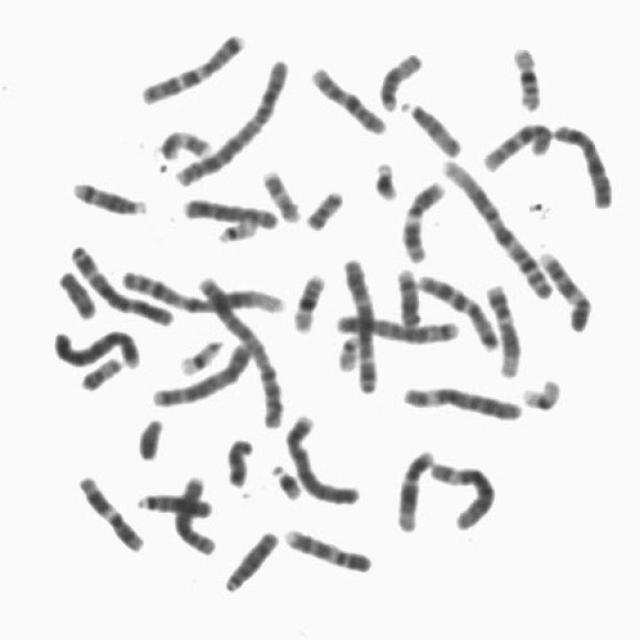A1: (436, 150, 556, 300), (116, 259, 289, 318)
A2: (168, 50, 293, 189), (192, 265, 289, 431)
A3: (63, 236, 179, 327), (336, 250, 382, 395)
B4: (280, 405, 365, 507), (46, 320, 145, 370)
B5: (147, 335, 257, 409), (329, 306, 464, 346)
C10: (305, 56, 392, 136), (477, 113, 556, 173)
C11: (72, 467, 148, 554), (396, 172, 450, 264)
C12: (480, 276, 526, 380), (391, 441, 438, 534)
C6: (396, 376, 527, 423), (424, 453, 500, 532)
C7: (134, 23, 249, 105), (412, 266, 502, 352)
C8: (170, 466, 221, 556), (177, 190, 284, 231)
C9: (533, 242, 595, 334), (279, 520, 376, 574)
D13: (218, 522, 283, 594), (131, 485, 216, 519)
D14: (66, 172, 152, 217), (390, 260, 426, 330)
D15: (396, 91, 466, 159), (373, 42, 428, 112)
E16: (505, 36, 546, 113), (287, 264, 330, 335)
E17: (257, 160, 306, 223), (153, 122, 216, 160)
E18: (51, 262, 100, 321), (220, 429, 258, 488)
F19: (174, 330, 228, 377), (516, 369, 566, 412)
F20: (301, 180, 348, 232), (74, 348, 126, 392)
G21: (265, 456, 307, 502), (368, 152, 403, 202)
G22: (212, 212, 261, 244), (332, 327, 364, 372)
X: (549, 114, 618, 210)
Y: (131, 409, 168, 462)
